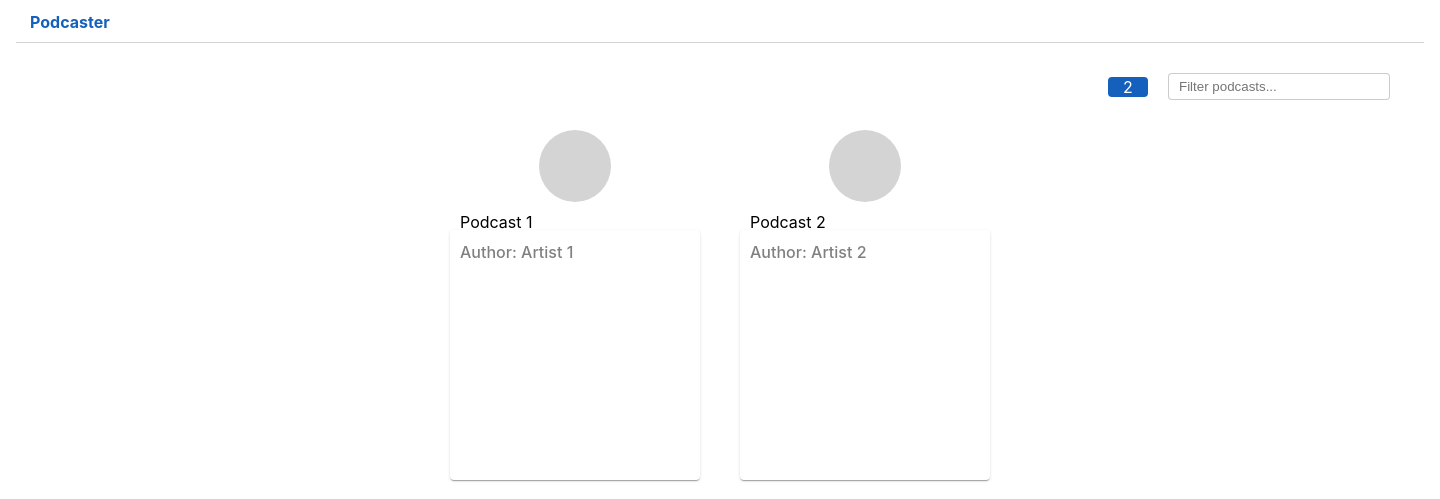
it: filters podcasts based on search input
Expected: the text "Podcast 1" is shown, x1=460 y1=212 x2=532 y2=232
Enter search text
Type "Podcast 1" into the field at (1279, 86), box x1=1168 y1=73 x2=1390 y2=100
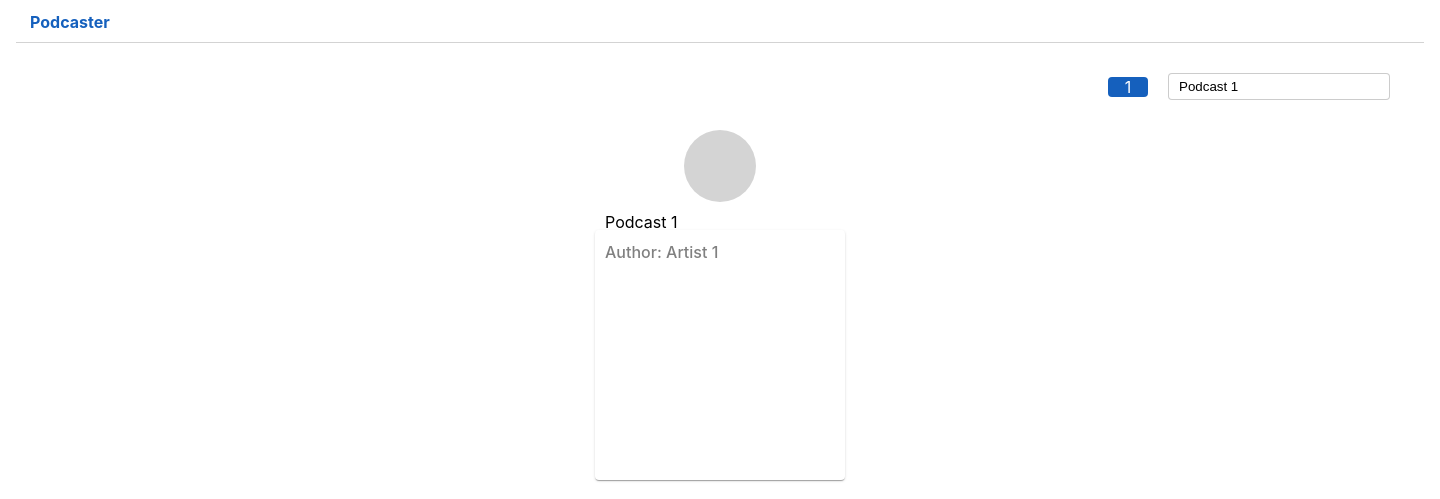
Expected: the text "Podcast 1" is shown, x1=605 y1=212 x2=678 y2=232
Expected: the text "Podcast 2" is gone
Expected: the text "1" is shown, x1=1108 y1=76 x2=1148 y2=96
